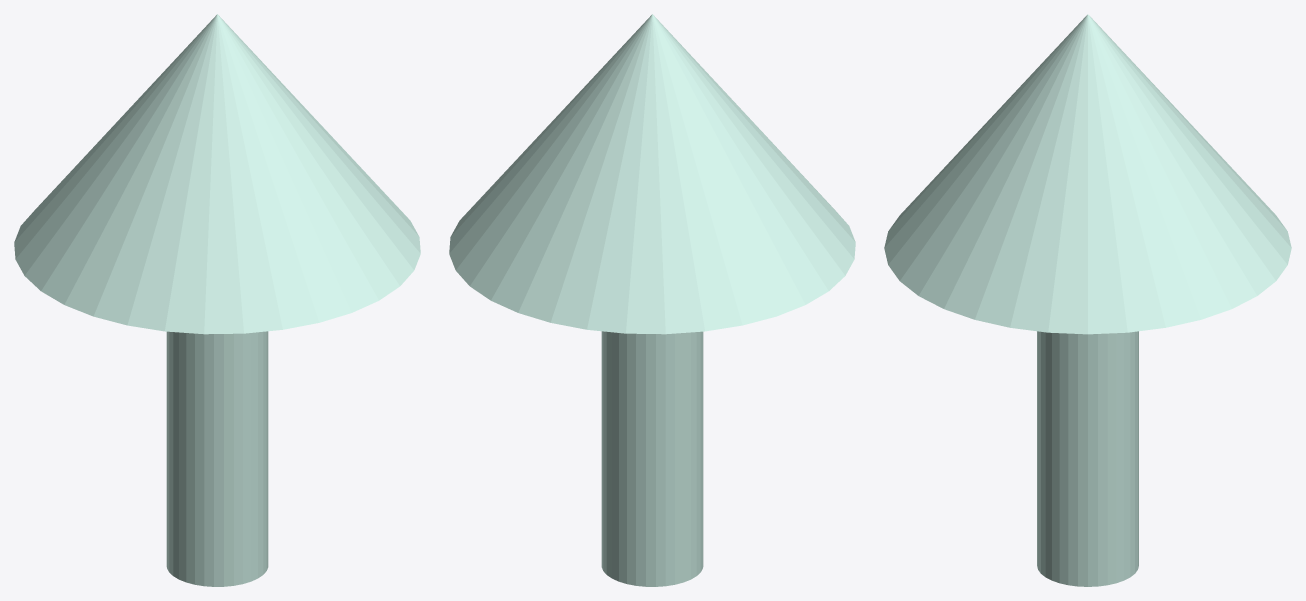
The picture shows the model from 3 angles, left to right: view 1: azimuth 30°, elevation 25°; view 2: azimuth 150°, elevation 25°; view 3: azimuth 270°, elevation 25°; orthographic projection.
Parts seen in each view (by area): view 1: Cone, Cylinder; view 2: Cone, Cylinder; view 3: Cone, Cylinder.
Part boxes in pixels (x1,y1,x2,y2): Cone: (14, 14, 420, 334); Cylinder: (166, 331, 268, 586); Cone: (449, 14, 855, 334); Cylinder: (601, 331, 703, 586); Cone: (884, 14, 1291, 334); Cylinder: (1037, 331, 1138, 586).
Size of the model in its own units: 2 by 2.99 by 2.
